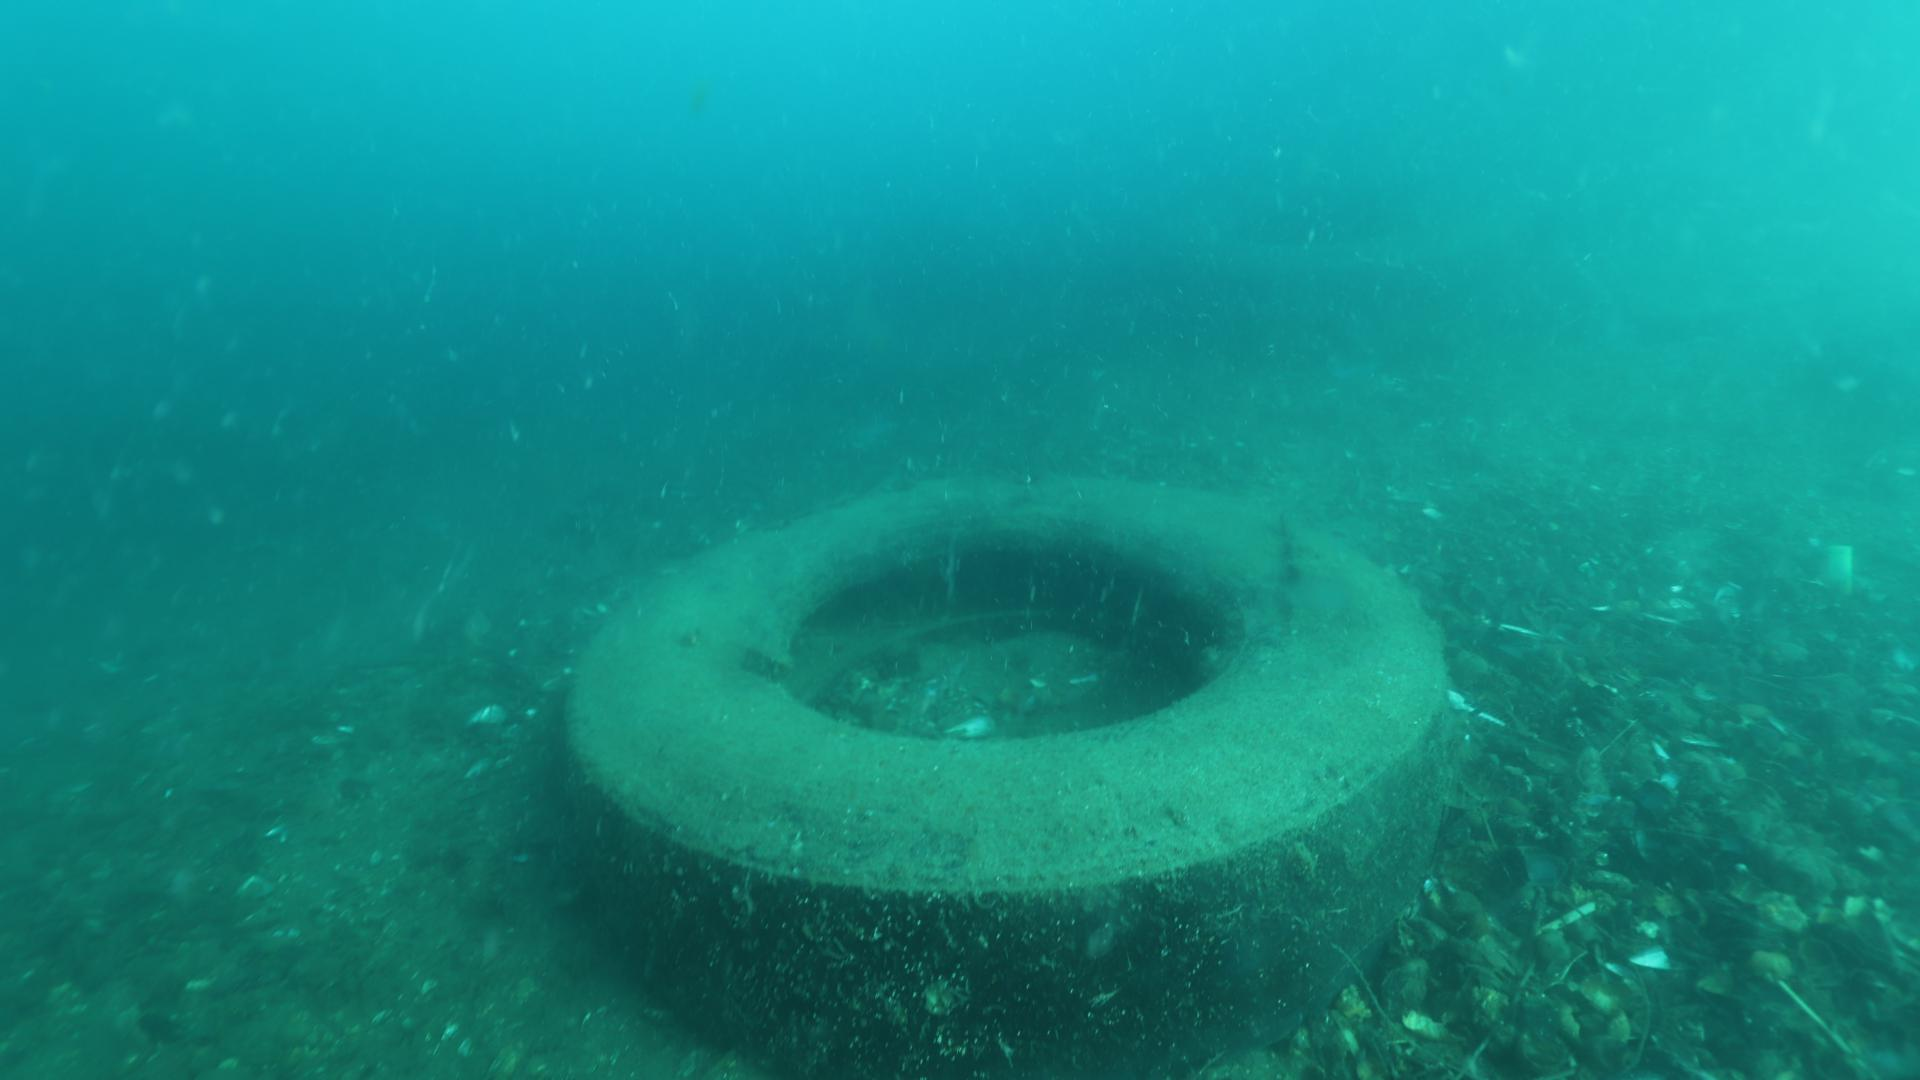tire: (564, 471, 1455, 1071)
